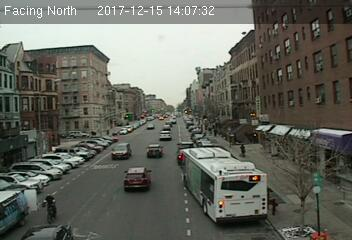bicycle: (41, 193, 59, 223)
bus: (180, 147, 269, 226)
car: (19, 222, 74, 240), (122, 167, 154, 191), (110, 143, 131, 158), (145, 144, 163, 157), (177, 140, 193, 149), (158, 130, 171, 139)
pedestrian: (240, 143, 249, 160)
truck: (1, 187, 28, 233)
